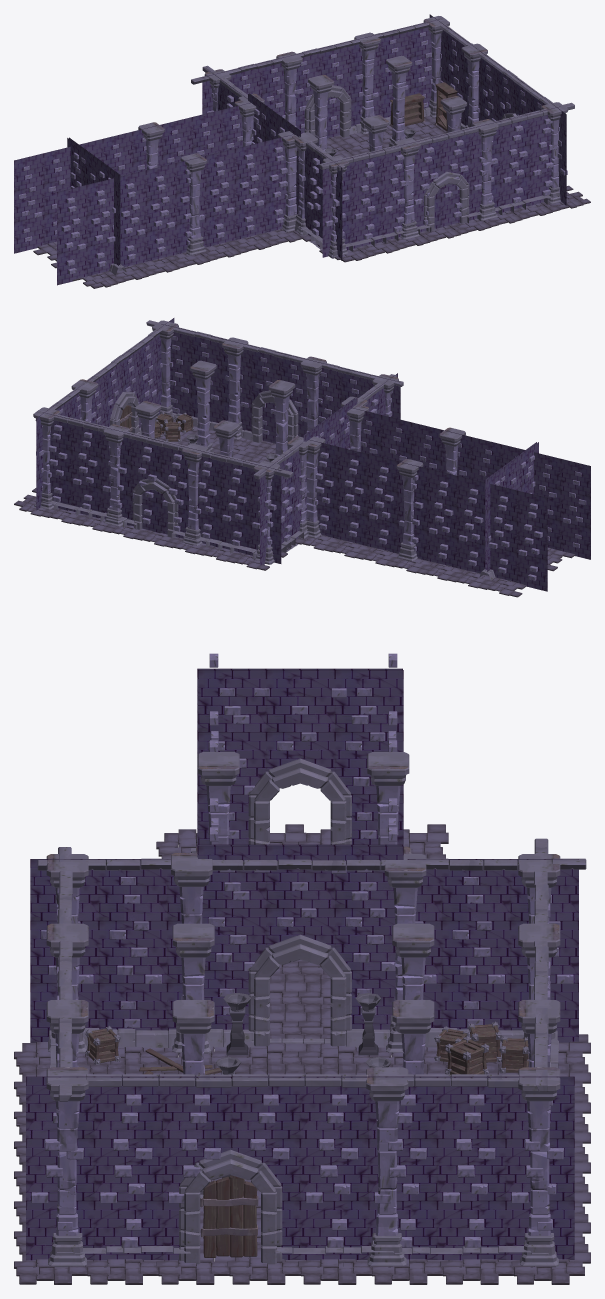
Rendered from Level_01.fbx.
3 views of the same model, one above another, from view 1: azimuth 30°, elevation 25°; view 2: azimuth 150°, elevation 25°; view 3: azimuth 270°, elevation 25° (orthographic). The views are drawn at different scales.
Visible parts, largest first — view 1: Level_01; view 2: Level_01; view 3: Level_01.
Part boxes in pixels (x1,y1,x2,y2): Level_01: [14, 14, 590, 288]; Level_01: [14, 318, 590, 597]; Level_01: [14, 653, 590, 1284].
Size of the model in its own units: 3268 by 665 by 1682.
